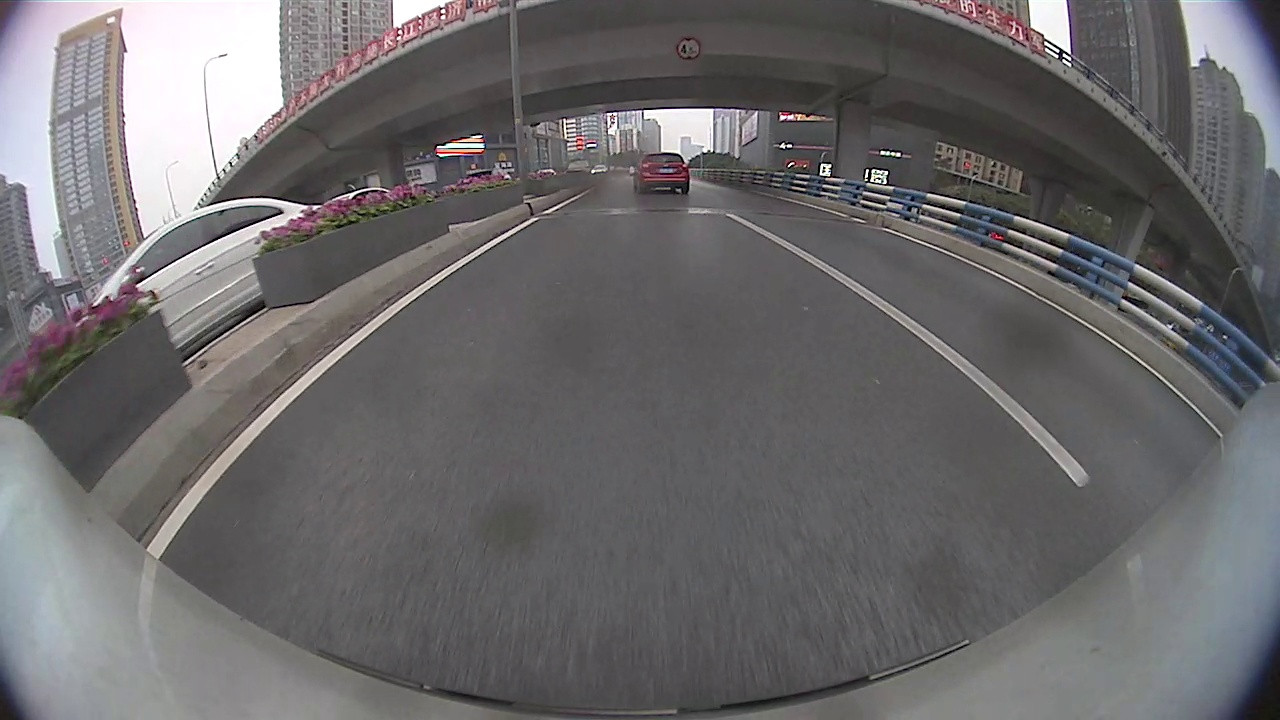car: (70, 192, 326, 362), (632, 149, 692, 197), (325, 183, 401, 205)
